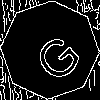G: (25, 25, 85, 86)
